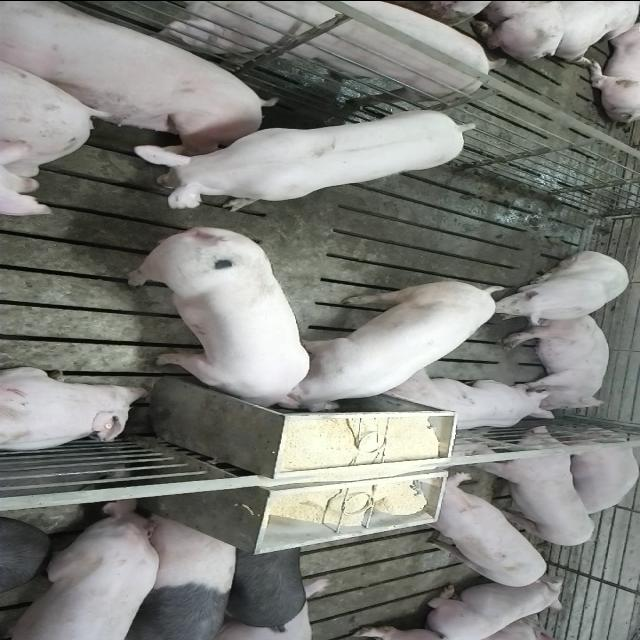Feeding: (116, 238, 310, 416), (275, 278, 508, 410)
Lateral_lying: (1, 0, 277, 143), (501, 311, 611, 410)
Sitting: (491, 250, 633, 324)
Standing: (149, 0, 512, 105), (132, 106, 484, 211), (0, 498, 163, 638), (404, 473, 548, 588), (112, 512, 241, 638), (472, 423, 600, 547), (215, 538, 305, 632), (0, 136, 54, 222), (0, 518, 50, 604)
Sternal_lying: (0, 365, 150, 454), (378, 371, 556, 433), (418, 578, 568, 638), (556, 431, 638, 515)
